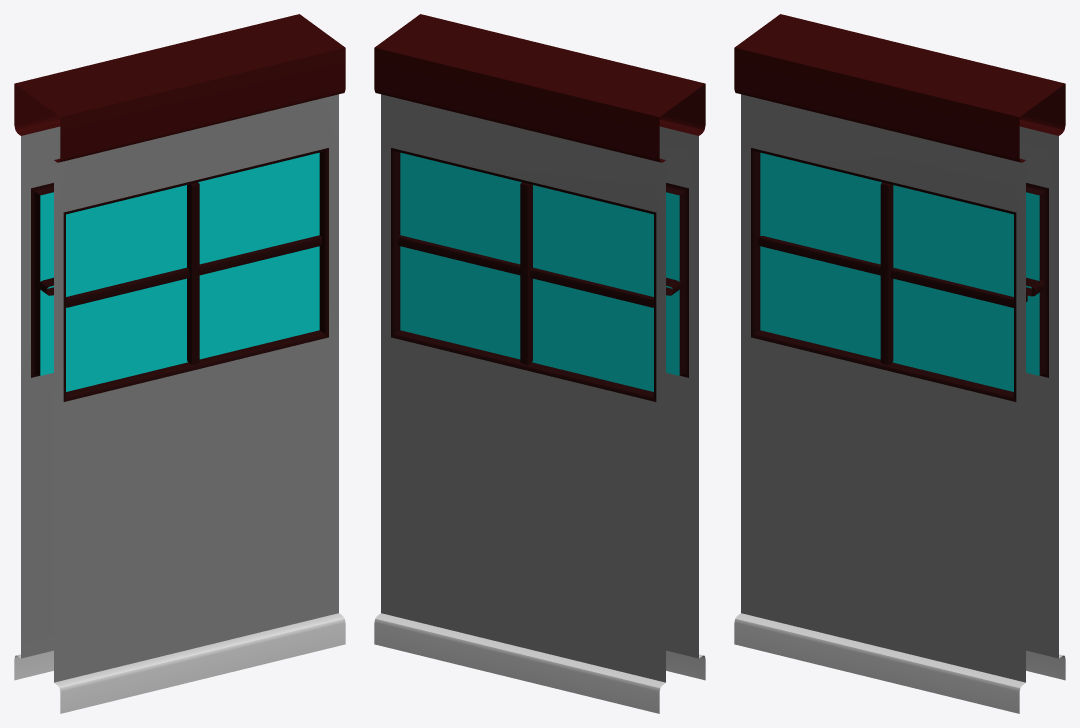
Rendered from SM_MurFenetre.fbx.
3 renders of one model, left to right at view 1: azimuth 30°, elevation 25°; view 2: azimuth 150°, elevation 25°; view 3: azimuth 330°, elevation 25°, orthographic.
Visible parts, largest first — view 1: Fenetre; view 2: Fenetre; view 3: Fenetre.
Part boxes in pixels (<box>): Fenetre: <box>14,14,345,713</box>; Fenetre: <box>374,14,705,713</box>; Fenetre: <box>734,14,1065,713</box>.
Size of the model in its own units: 100 by 200 by 27.92.
